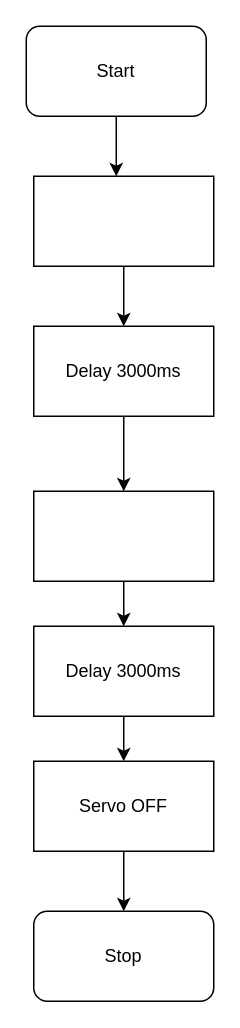
This 240x1028 diagram has some shape labels left out. Here are the shapes that lost their labels. From the top down, the centre of each, then its label:
At point 123,220: "Servo ON (clockwise 0-90)".
At point 123,535: "Servo ON".
